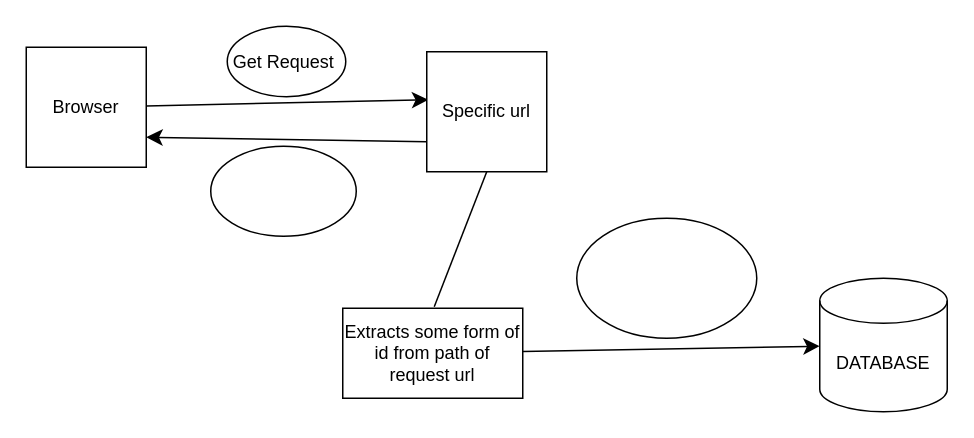
Some shapes in this 974 by 438 pixel diagram are drawn without their labels. The centre of each missing label's shape, as x and y in pixels:
Now, Redirects the browser to target url: [282,190]
Uses this id to lookup in db: [666,277]
